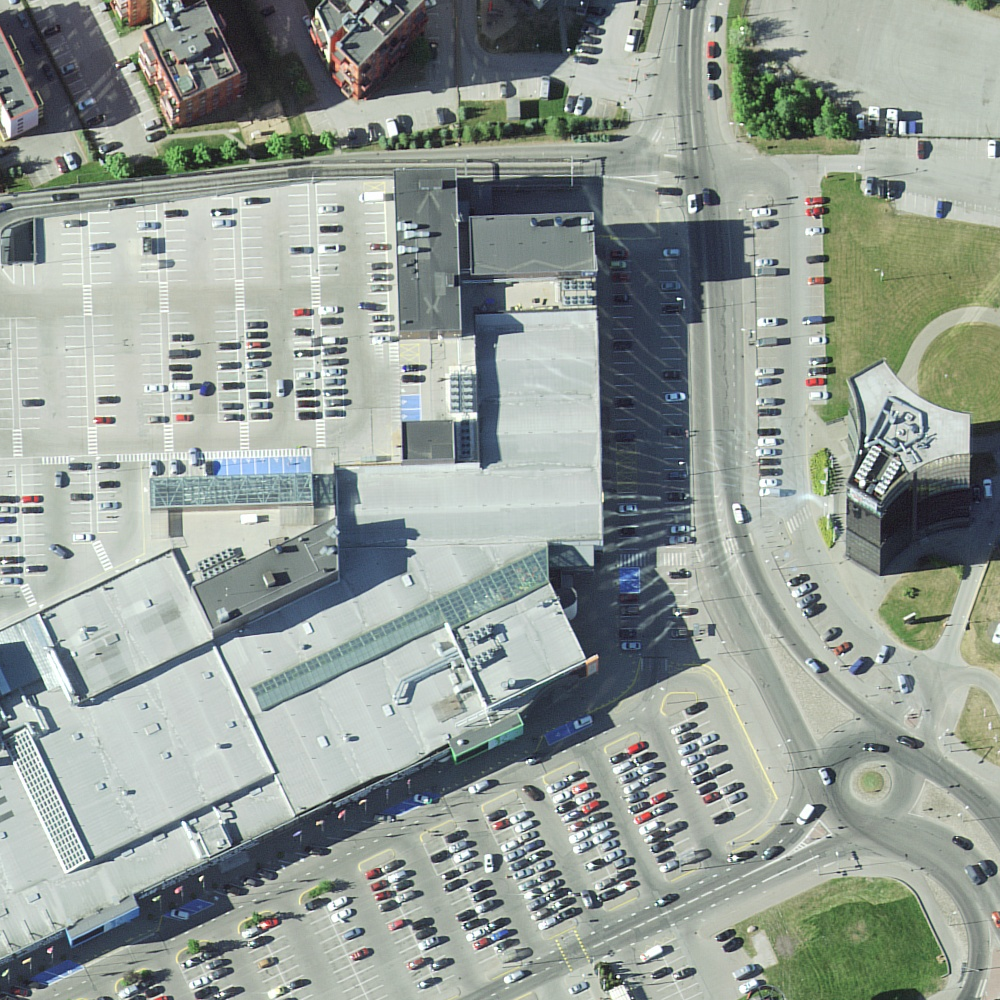building: (2, 169, 601, 964), (845, 359, 970, 504), (145, 2, 242, 99), (317, 1, 425, 65), (1, 31, 40, 121)
